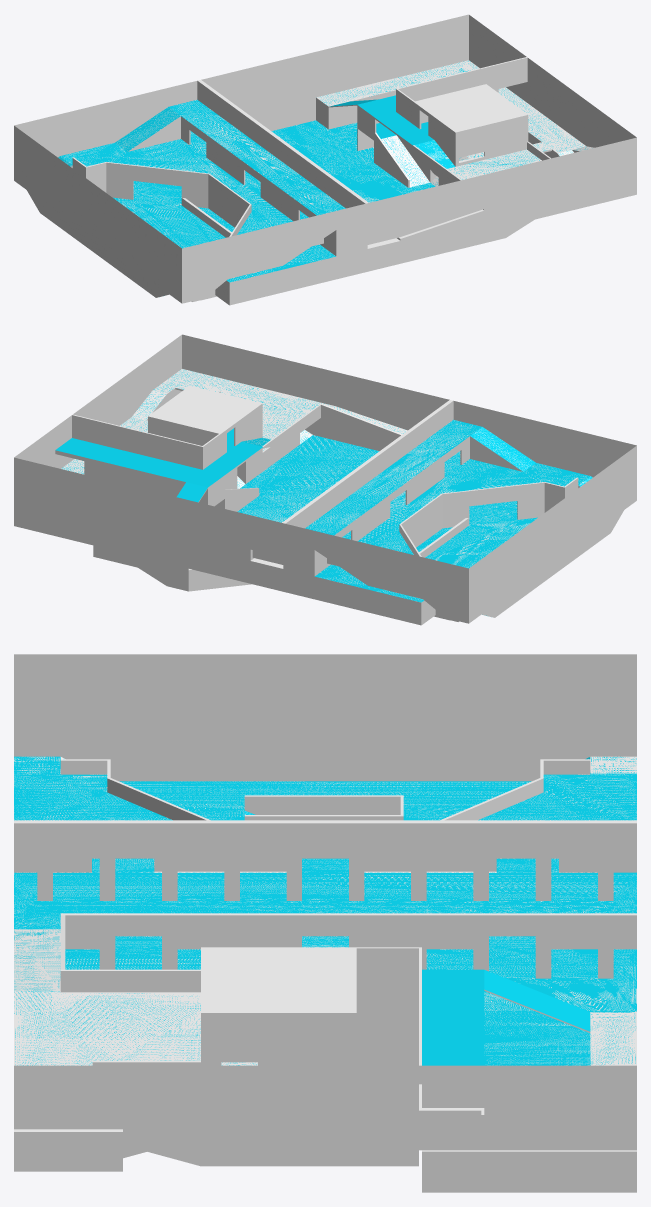
File: Arena-FFA.dae
3 views of the same model, one above another, from view 1: azimuth 30°, elevation 25°; view 2: azimuth 150°, elevation 25°; view 3: azimuth 270°, elevation 25° (orthographic). The views are drawn at different scales.
Visible parts, largest first — view 1: SketchUp_003, SketchUp_183, SketchUp_172, SketchUp_147, SketchUp_027, SketchUp_002, SketchUp_019, SketchUp_176, SketchUp_058, SketchUp_189, SketchUp_008, SketchUp_015 (+6 smaller); view 2: SketchUp_003, SketchUp_183, SketchUp_172, SketchUp_147, SketchUp_027, SketchUp_019, SketchUp_016, SketchUp_002, SketchUp_176, SketchUp_008, SketchUp_058, SketchUp_190 (+5 smaller); view 3: SketchUp_003, SketchUp_183, SketchUp_172, SketchUp_147, SketchUp_027, SketchUp_002, SketchUp_019, SketchUp_016, SketchUp_058, SketchUp_008, SketchUp_022, SketchUp_021 (+5 smaller).
Boxes of the visible parts, left/top/right/bottom form: SketchUp_003: left=182, top=14, right=636, bottom=303; SketchUp_183: left=14, top=126, right=181, bottom=303; SketchUp_172: left=58, top=99, right=345, bottom=234; SketchUp_147: left=14, top=80, right=369, bottom=222; SketchUp_027: left=113, top=120, right=435, bottom=248; SketchUp_002: left=316, top=60, right=594, bottom=186; SketchUp_019: left=396, top=84, right=527, bottom=166; SketchUp_176: left=106, top=162, right=249, bottom=227; SketchUp_058: left=128, top=116, right=367, bottom=271; SketchUp_189: left=229, top=249, right=365, bottom=305; SketchUp_008: left=330, top=95, right=455, bottom=168; SketchUp_015: left=316, top=90, right=395, bottom=129; SketchUp_003: left=14, top=334, right=636, bottom=591; SketchUp_183: left=469, top=446, right=636, bottom=623; SketchUp_172: left=305, top=419, right=592, bottom=554; SketchUp_147: left=281, top=401, right=468, bottom=623; SketchUp_027: left=237, top=435, right=537, bottom=615; SketchUp_019: left=72, top=385, right=262, bottom=469; SketchUp_016: left=14, top=504, right=251, bottom=591; SketchUp_002: left=61, top=369, right=407, bottom=488; SketchUp_176: left=401, top=482, right=564, bottom=547; SketchUp_008: left=55, top=428, right=270, bottom=502; SketchUp_058: left=283, top=436, right=522, bottom=591; SketchUp_190: left=285, top=569, right=421, bottom=625; SketchUp_003: left=14, top=915, right=636, bottom=1171; SketchUp_183: left=14, top=654, right=636, bottom=781; SketchUp_172: left=14, top=756, right=636, bottom=929; SketchUp_147: left=14, top=823, right=636, bottom=900; SketchUp_027: left=65, top=757, right=636, bottom=1065; SketchUp_002: left=14, top=929, right=636, bottom=1065; SketchUp_019: left=201, top=947, right=356, bottom=1012; SketchUp_016: left=422, top=1151, right=636, bottom=1192; SketchUp_058: left=14, top=858, right=636, bottom=949; SketchUp_008: left=422, top=969, right=590, bottom=1065; SketchUp_022: left=356, top=948, right=418, bottom=1065; SketchUp_021: left=60, top=913, right=636, bottom=992.
Size of the model in its own units: 62.49 by 40 by 12.
